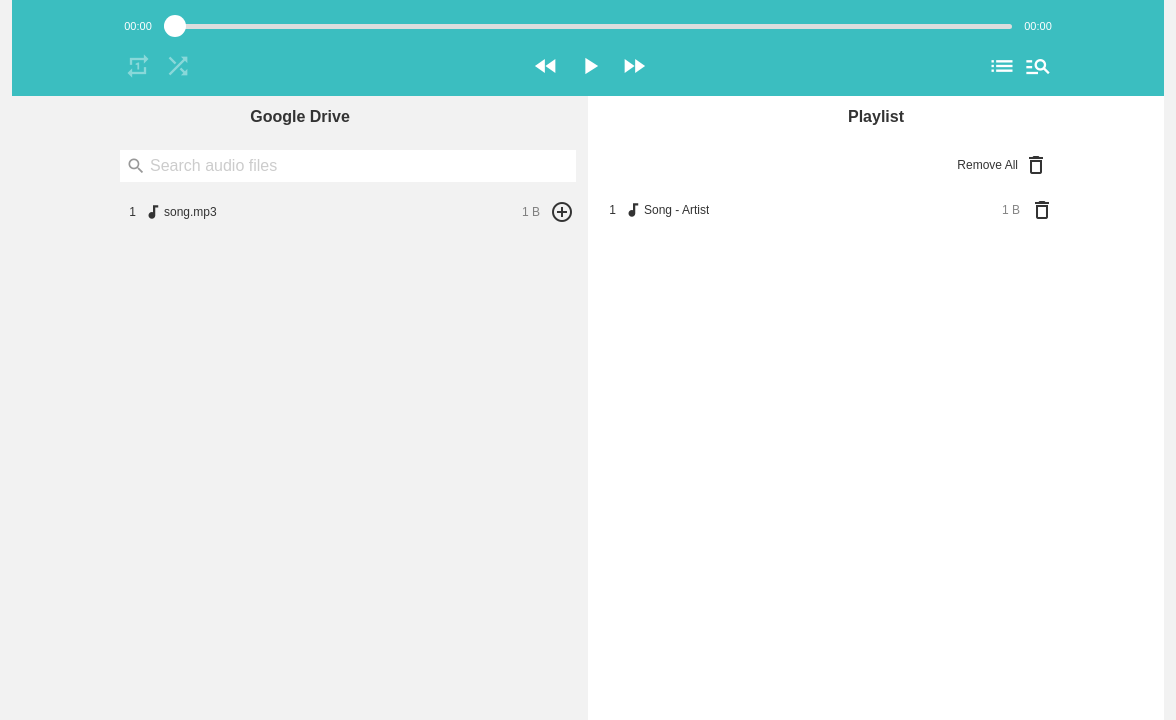
Test: LibraryPage › プレイリストの曲はタグで表示し、表示モードのボタンで切り替える。ドライブ内一覧はファイル名のまま
The image size is (1176, 720).
Click the button with class "display-mode".
click(1002, 66)  # box [984, 48, 1020, 84]
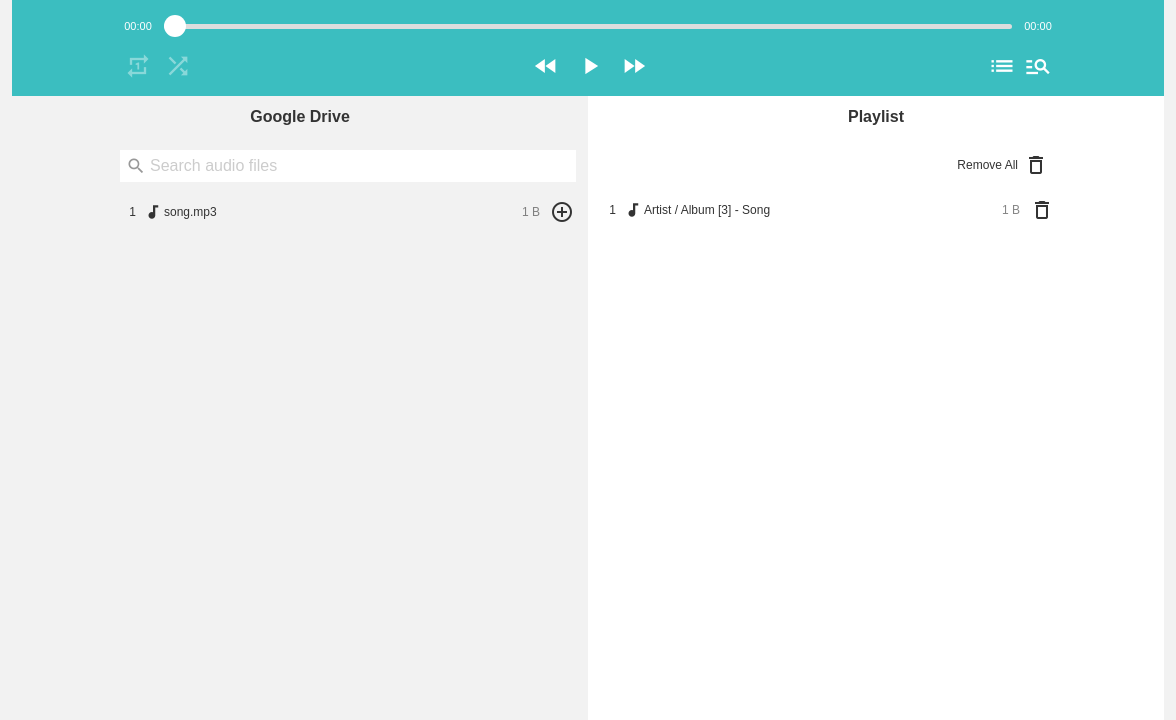
expect the text with class "name" reads "Artist / Album [3] - Song": met, box [644, 203, 770, 217]
Click the button with class "display-mode".
click(1002, 66)  # box [984, 48, 1020, 84]
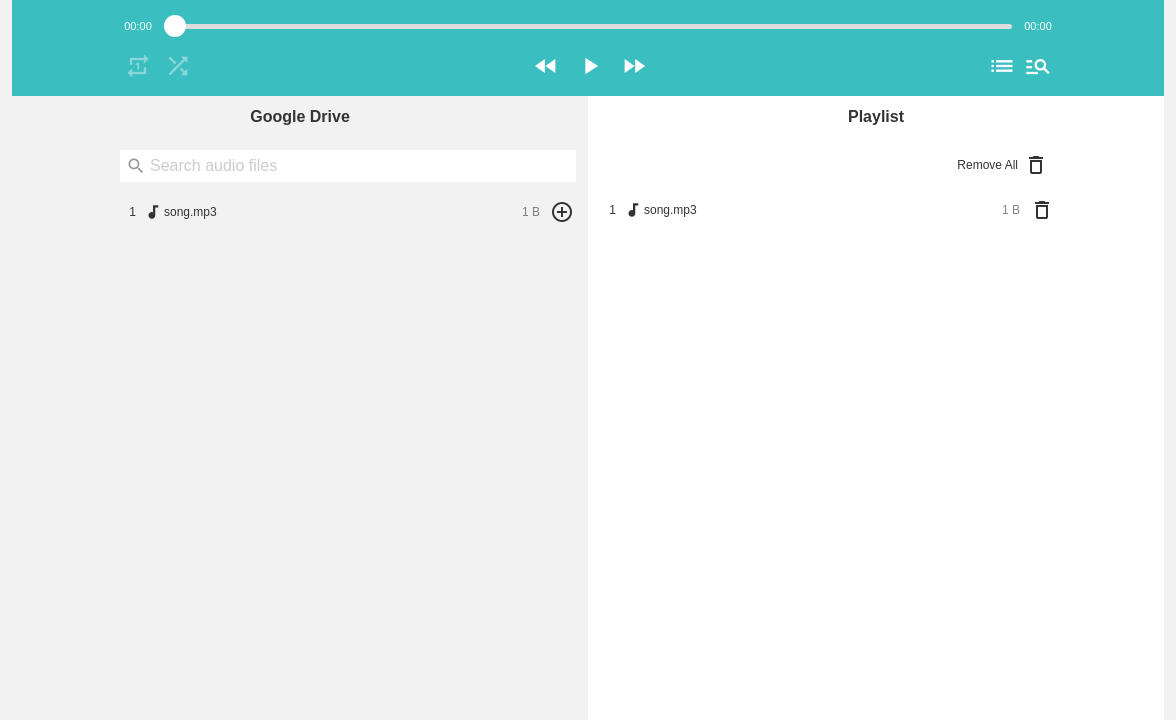
expect the 1st text "song.mp3" is shown: met, box [164, 205, 217, 219]
Click the button with class "display-mode".
click(1002, 66)  # box [984, 48, 1020, 84]
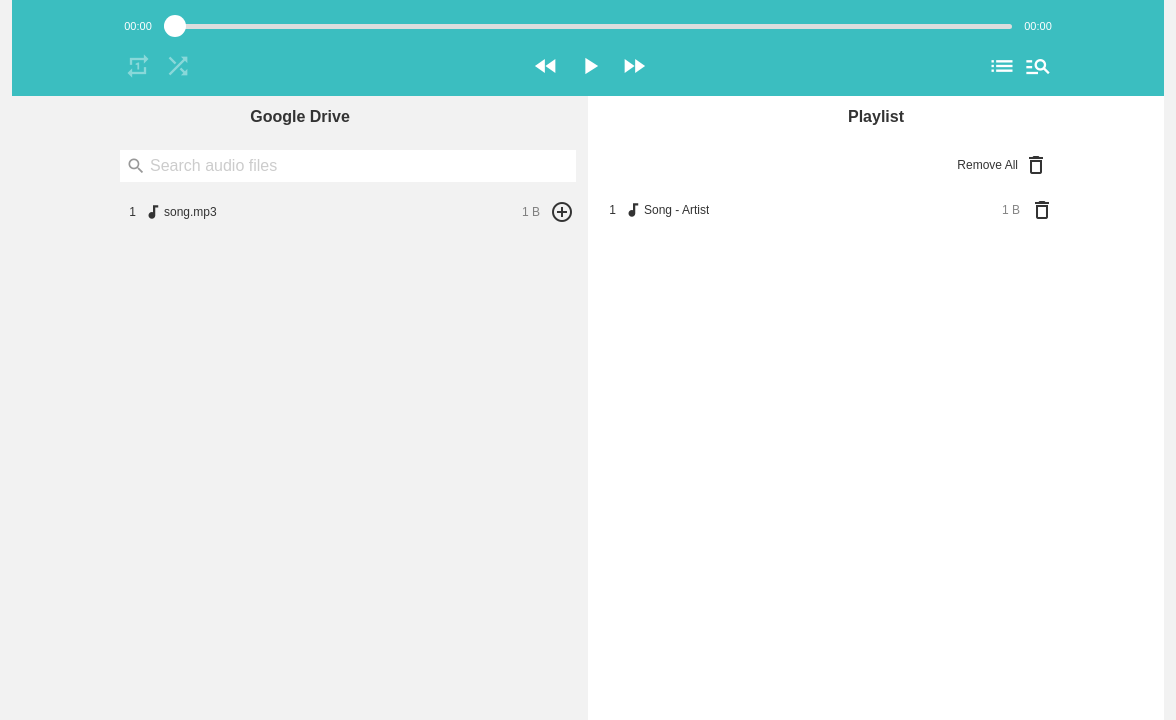
expect the text with class "name" reads "song.mp3": met, box [164, 205, 217, 219]
expect the text with class "name" reads "Song - Artist": met, box [644, 203, 709, 217]
